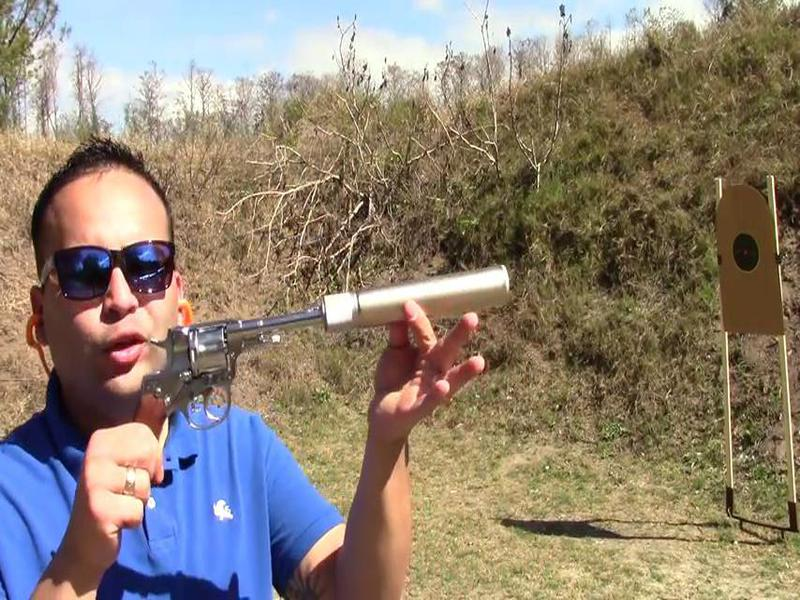Revolver: (124, 282, 334, 489)
